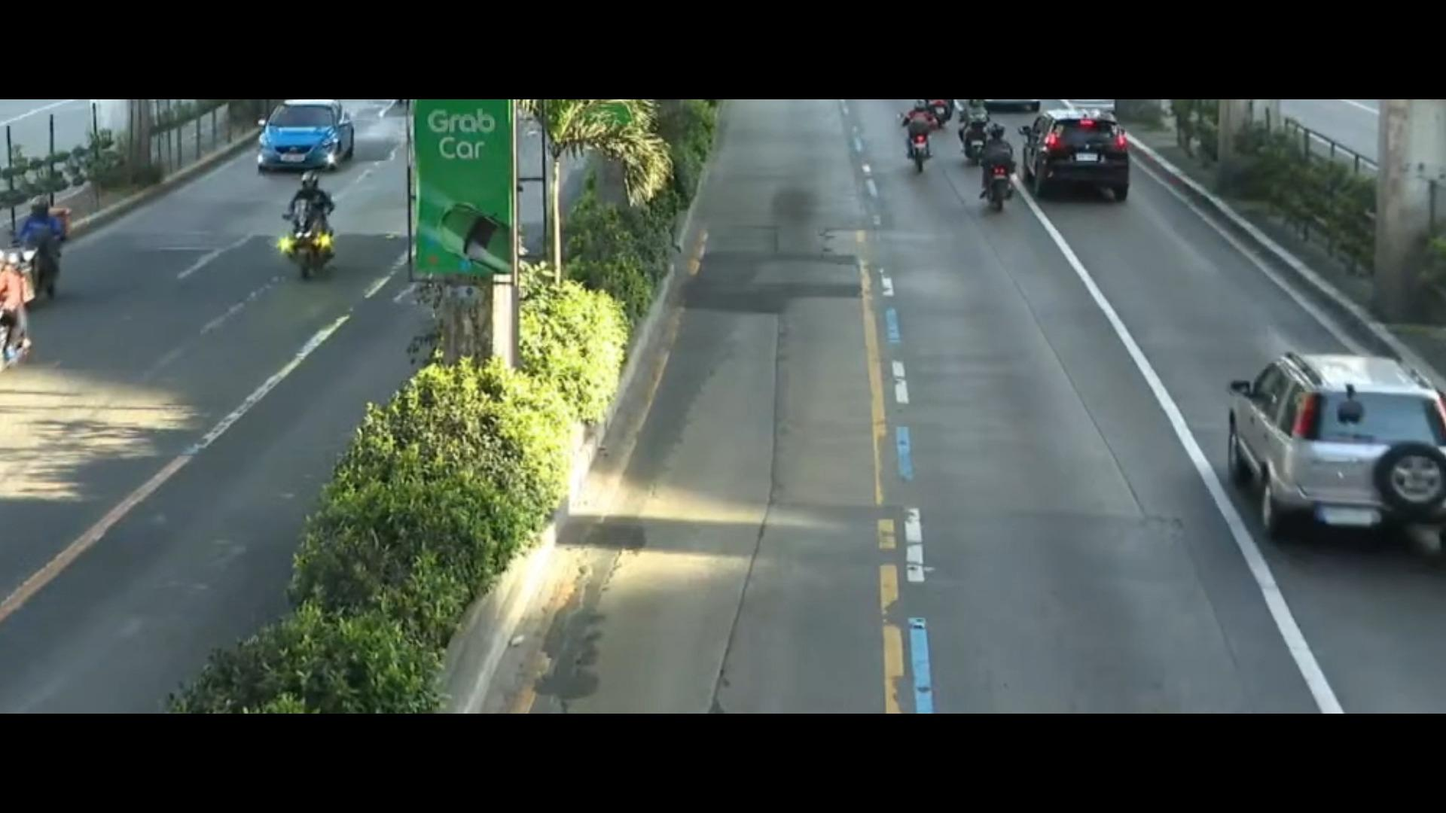Motorcycle: (15, 186, 111, 290), (274, 186, 347, 294), (0, 249, 58, 362), (967, 113, 1027, 214), (891, 108, 949, 198), (951, 103, 992, 171), (922, 99, 953, 128)
SUV: (1216, 334, 1446, 549), (1023, 101, 1150, 200)
Sedan: (252, 103, 358, 184)
